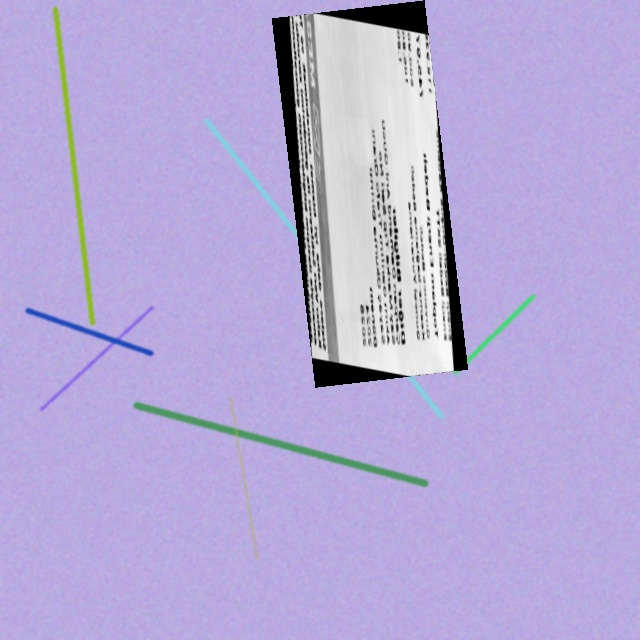electricity-bill: (272, 0, 468, 388)
